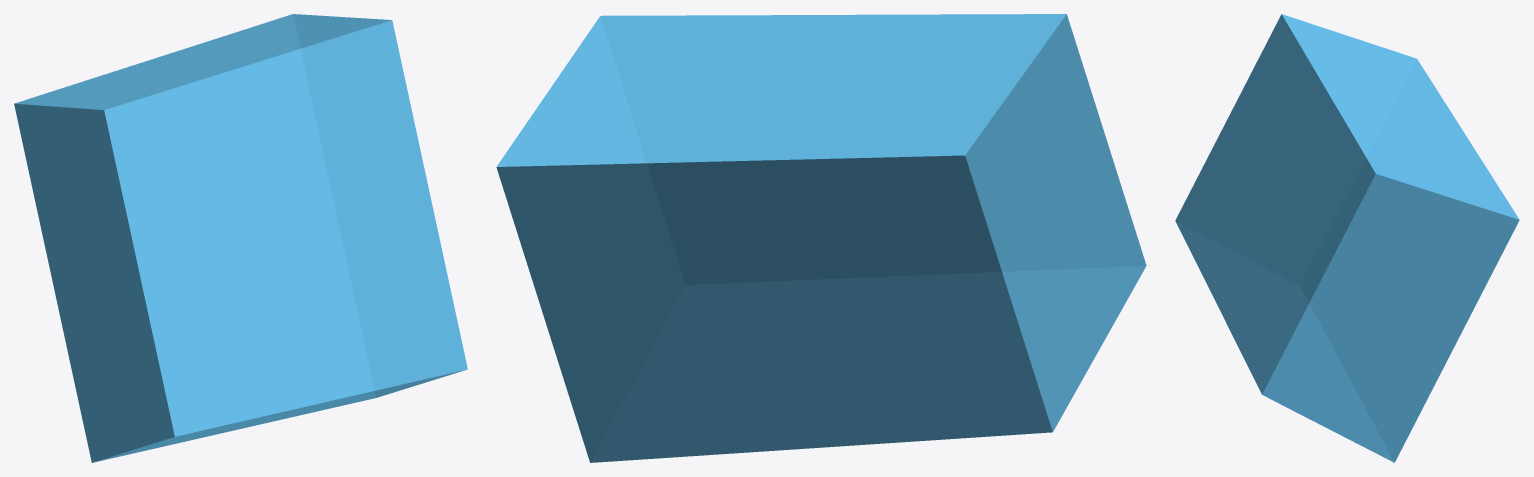
Rendered from Event_421364160_HErechit_21.fbx.
3 renders of one model, left to right at view 1: azimuth 30°, elevation 25°; view 2: azimuth 150°, elevation 25°; view 3: azimuth 270°, elevation 25°, orthographic. The views are drawn at different scales.
Parts seen in each view (by area): view 1: Model; view 2: Model; view 3: Model.
Part boxes in pixels (box(x1,y1,x2,y2)): Model: box(14, 14, 467, 462); Model: box(496, 14, 1146, 462); Model: box(1175, 14, 1519, 462).
Bounding box in the file's own units: 0.7067 × 0.8232 × 0.7993.
